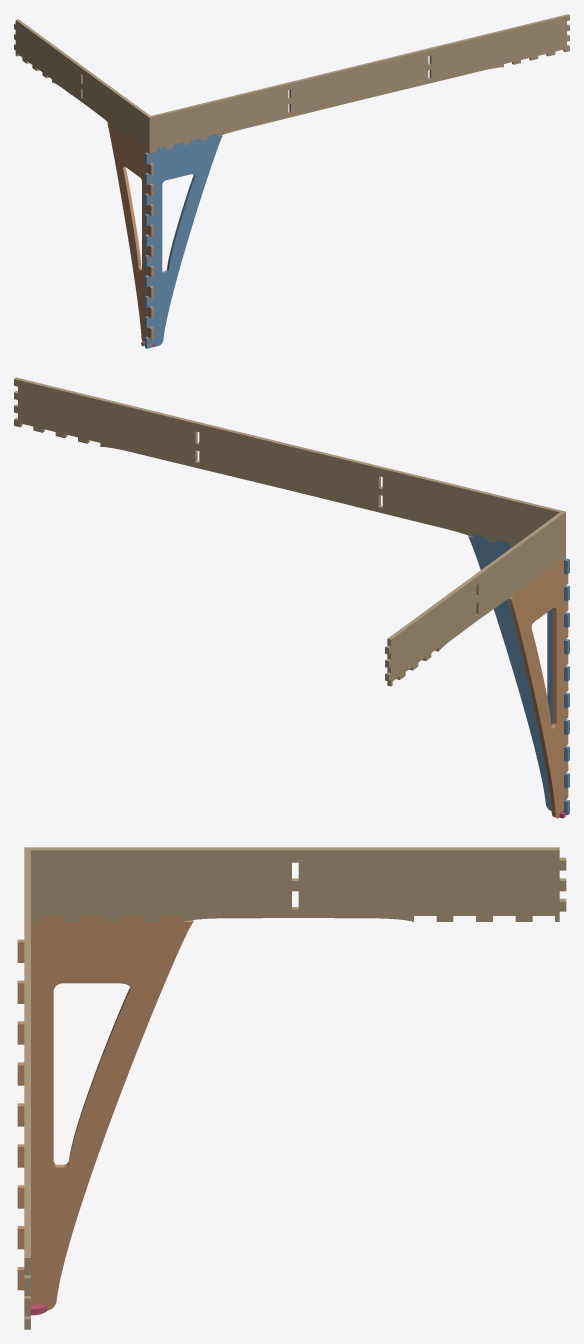
Rendered from REJECTED_SW_CORNER_DESIGN_ONLY.glb.
3 renders of one model, top to bottom at view 1: azimuth 30°, elevation 25°; view 2: azimuth 150°, elevation 25°; view 3: azimuth 270°, elevation 25°, orthographic. The views are drawn at different scales.
Visible parts, largest first — view 1: L_south, LEG_A, W_west, LEG_B; view 2: L_south, W_west, LEG_B, LEG_A; view 3: W_west, LEG_B, L_south.
Part boxes in pixels (box(x1,y1,x2,y2)): L_south: box(147, 14, 569, 153); LEG_A: box(145, 134, 222, 348); W_west: box(14, 19, 152, 151); LEG_B: box(107, 122, 153, 347); L_south: box(14, 377, 565, 559); W_west: box(385, 512, 565, 686); LEG_B: box(508, 558, 568, 817); LEG_A: box(468, 534, 569, 815); W_west: box(31, 847, 566, 921); LEG_B: box(17, 916, 193, 1310); L_south: box(24, 847, 30, 1329).
Bounding box in the file's own units: 0.866 × 0.45 × 0.486.
